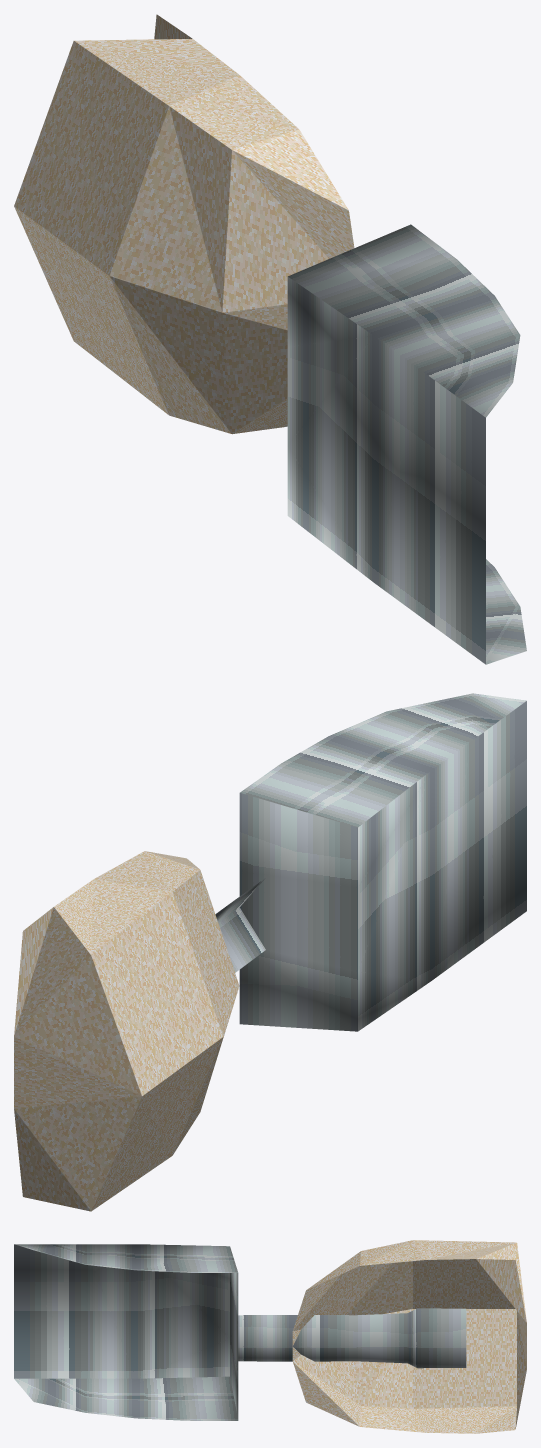
File: 2781item2781.gltf
3 views of the same model, one above another, from view 1: azimuth 30°, elevation 25°; view 2: azimuth 150°, elevation 25°; view 3: azimuth 270°, elevation 25° (orthographic). The views are drawn at different scales.
Visible parts, largest first — view 1: 2781item2781; view 2: 2781item2781; view 3: 2781item2781.
Boxes of the visible parts, box(x1,y1,x2,y2) form: 2781item2781: box(14, 14, 526, 664); 2781item2781: box(14, 693, 526, 1211); 2781item2781: box(14, 1240, 526, 1433).
Size of the model in its own units: 0.0571 by 0.124 by 0.3298.
2 materials, 2 textured.
